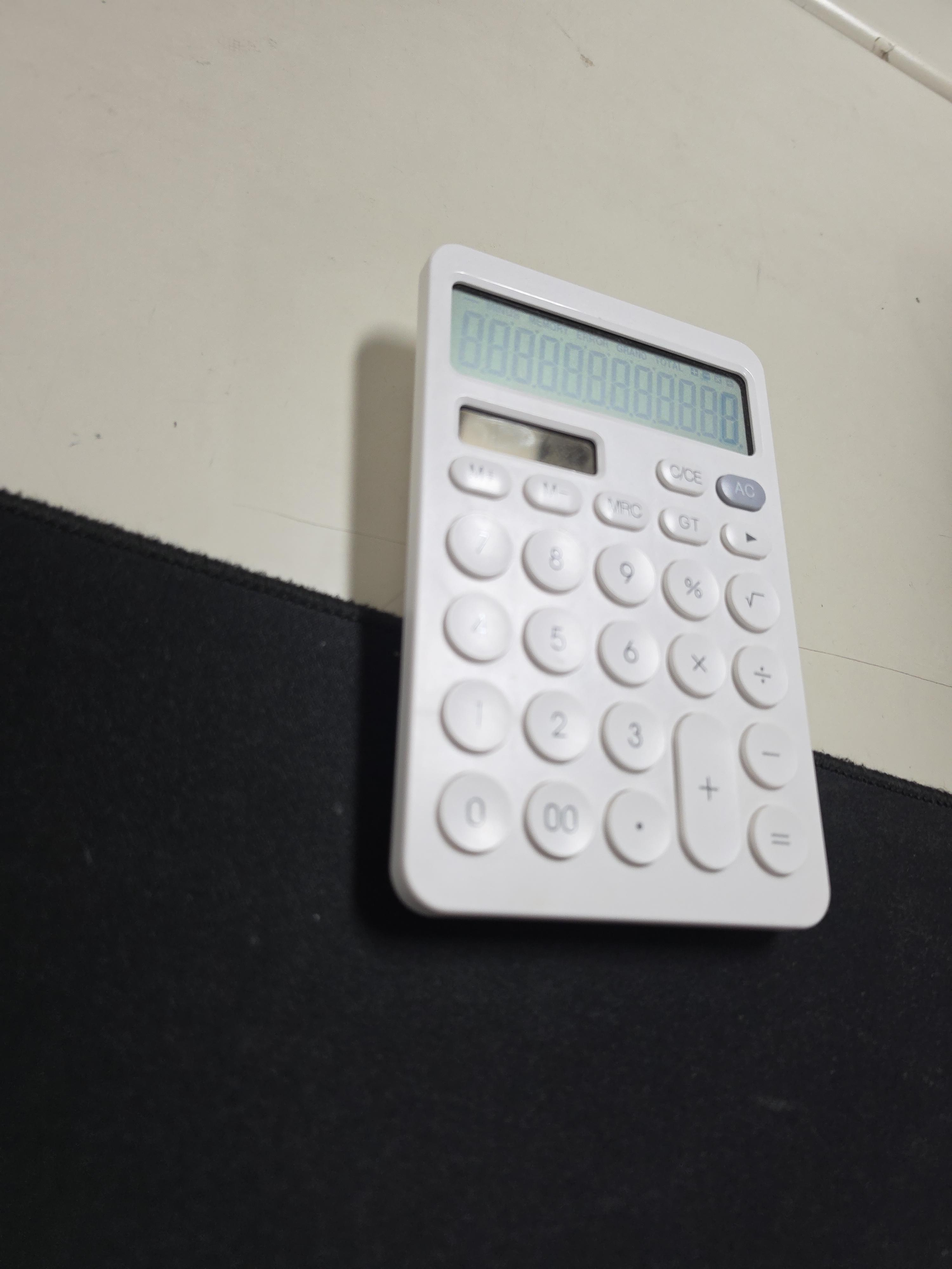calculator: (388, 244, 832, 931)
